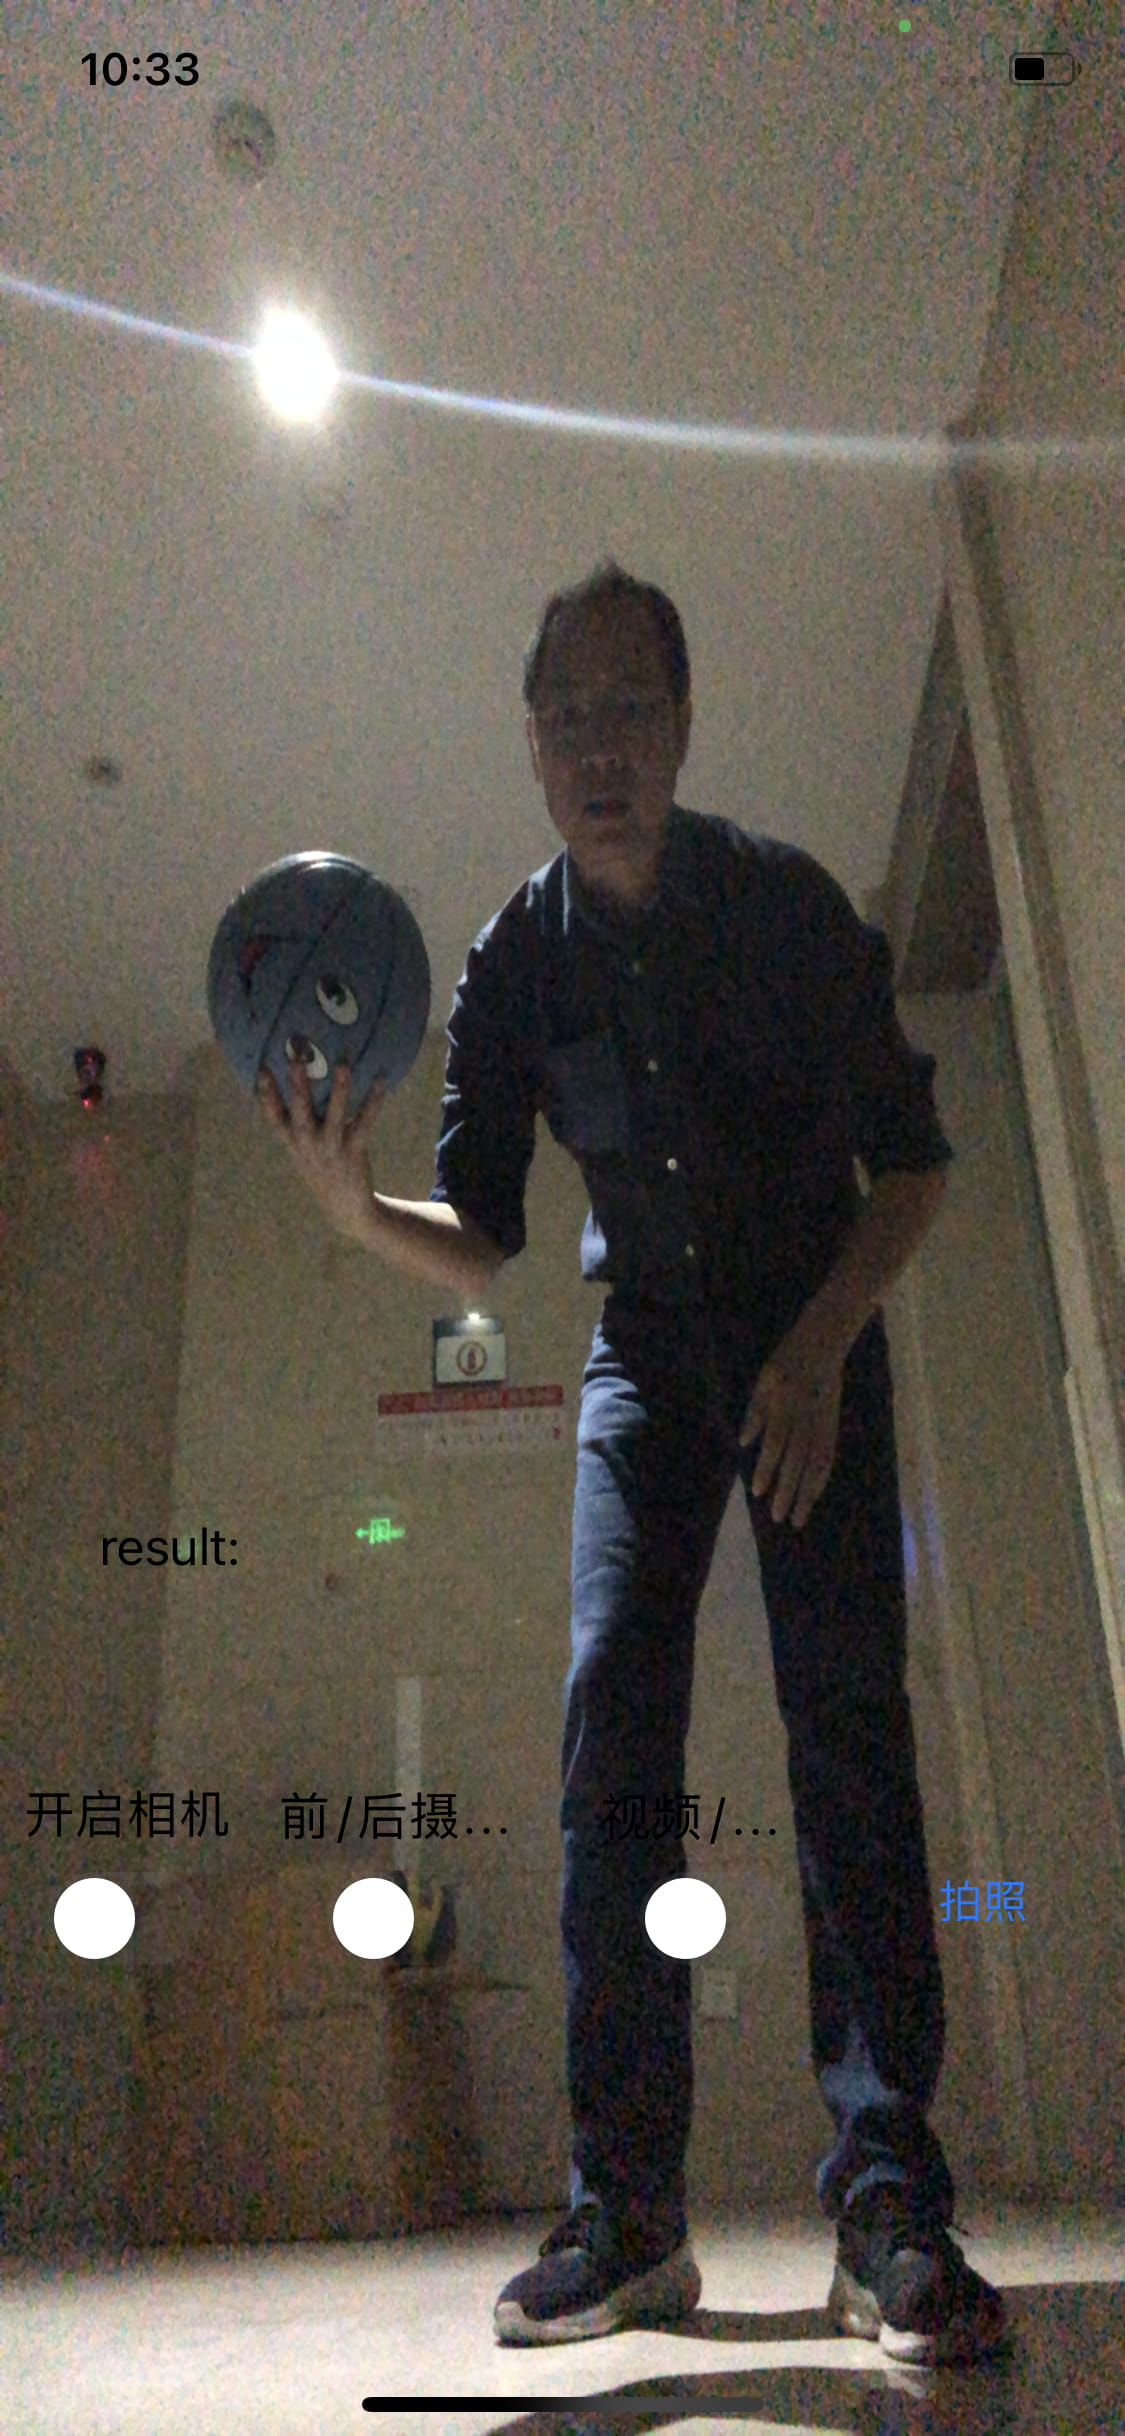ball: (211, 844, 434, 1112)
